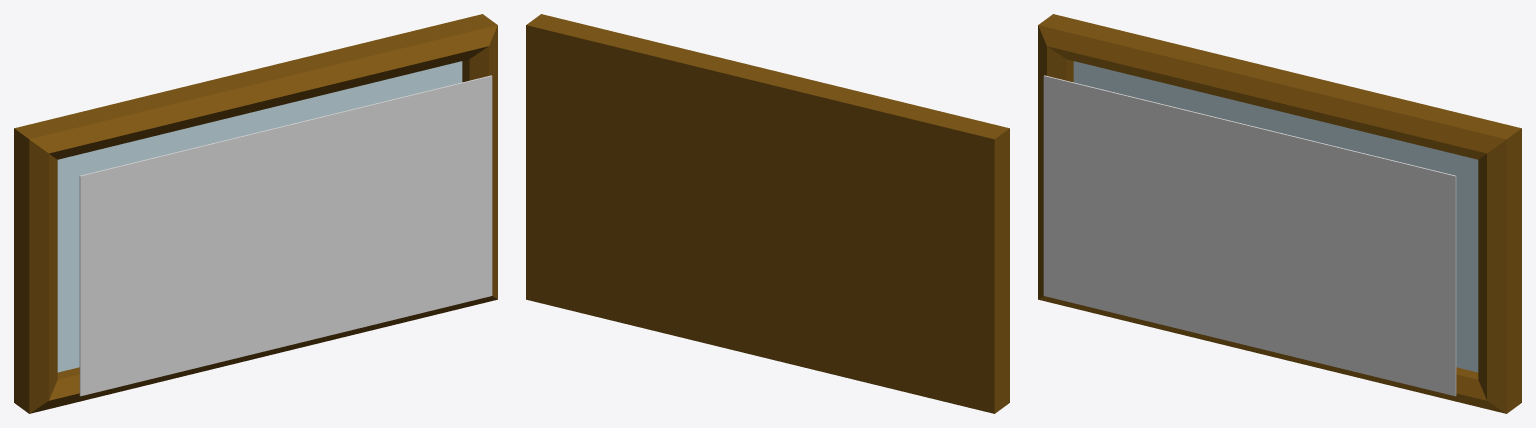
Rendered from DuvarAynasi.fbx.
3 views of the same model, side by side, from view 1: azimuth 30°, elevation 25°; view 2: azimuth 150°, elevation 25°; view 3: azimuth 330°, elevation 25° (orthographic).
Visible parts, largest first — view 1: DuvarAynasi_Film, DuvarAynasi, DuvarAynasi.001; view 2: DuvarAynasi; view 3: DuvarAynasi_Film, DuvarAynasi, DuvarAynasi.001.
Part boxes in pixels (x1,y1,x2,y2): DuvarAynasi_Film: [79, 75, 492, 396]; DuvarAynasi: [14, 14, 497, 413]; DuvarAynasi.001: [57, 61, 462, 372]; DuvarAynasi: [526, 14, 1009, 413]; DuvarAynasi_Film: [1043, 75, 1456, 396]; DuvarAynasi: [1038, 14, 1521, 413]; DuvarAynasi.001: [1073, 61, 1478, 372].
Size of the model in its own units: 100 by 56 by 14.
